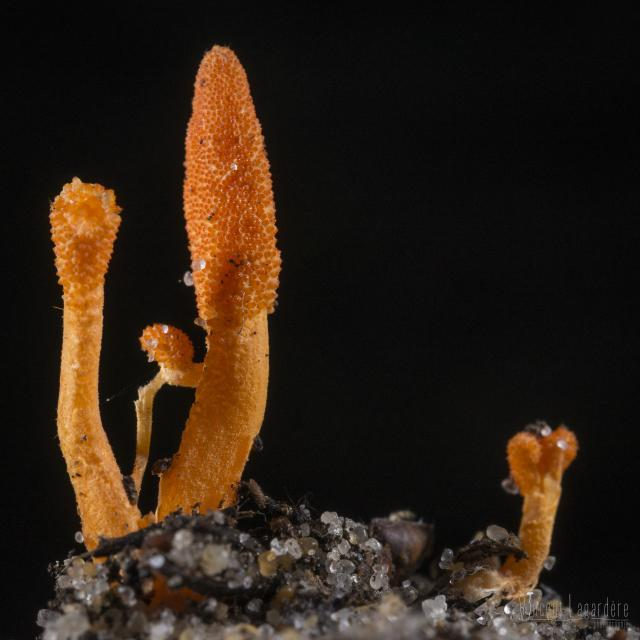Cordyceps militaris: (139, 47, 282, 533), (53, 175, 145, 540), (501, 423, 576, 592)
